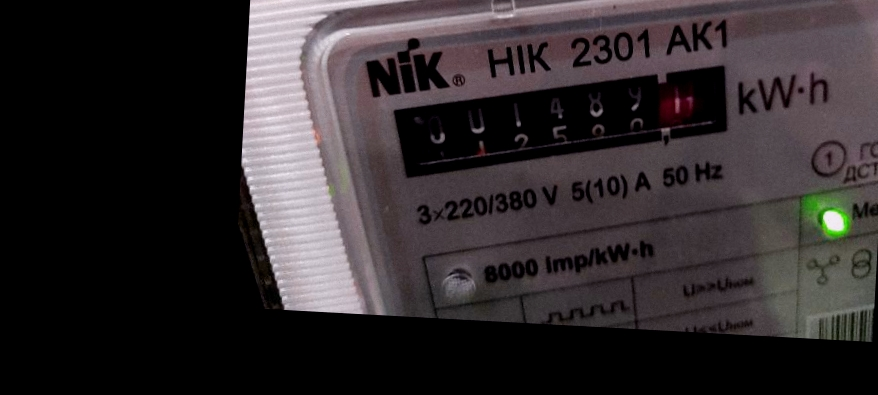0: (462, 99, 490, 136), (424, 111, 449, 147)
1: (667, 78, 688, 117), (507, 97, 528, 129)
4: (545, 89, 569, 121)
8: (585, 83, 608, 120)
9: (625, 80, 646, 113)
screen: (378, 36, 761, 208)
